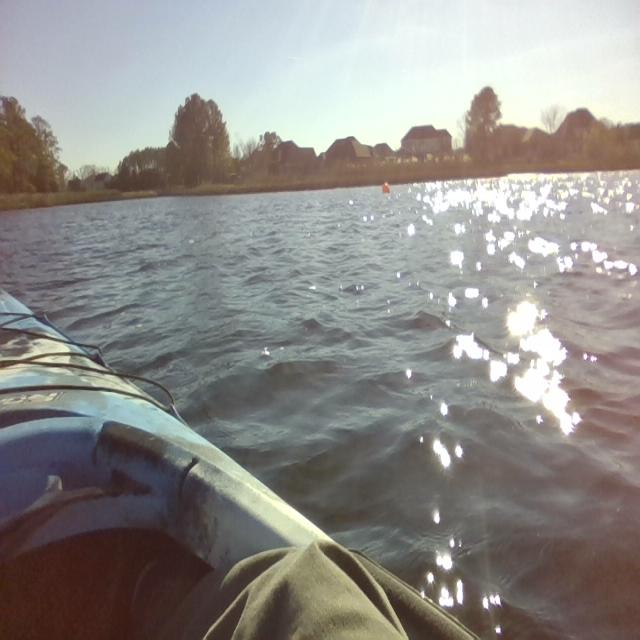Buoy: (379, 176, 394, 203)
